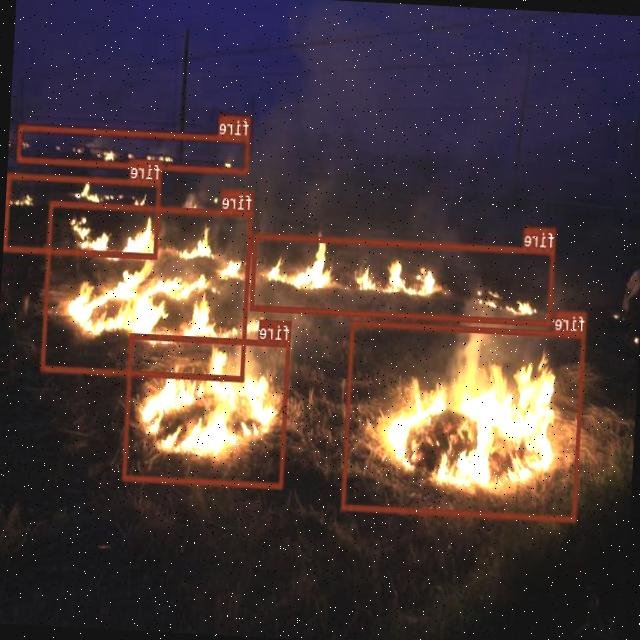fire: (342, 319, 586, 522), (42, 200, 254, 382), (252, 233, 556, 325), (123, 332, 291, 487), (4, 172, 162, 258), (17, 124, 250, 173)
